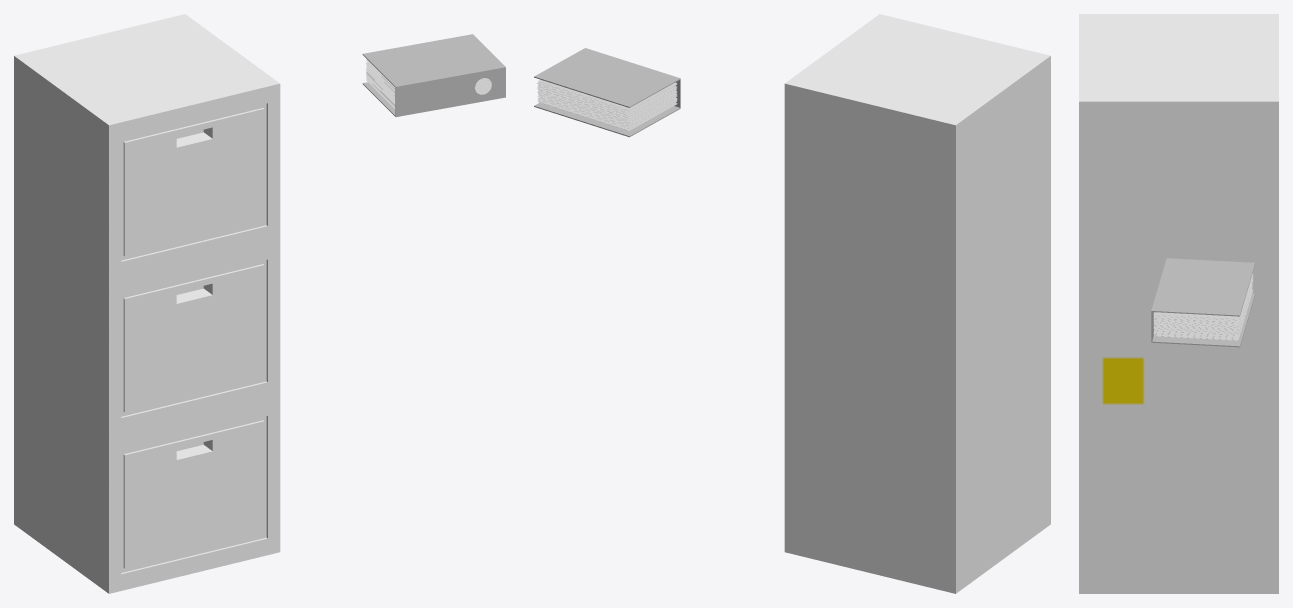
File: 3,7number.fbx
3 renders of one model, left to right at view 1: azimuth 30°, elevation 25°; view 2: azimuth 150°, elevation 25°; view 3: azimuth 270°, elevation 25°, orthographic. The views are drawn at different scales.
Parts seen in each view (by area): view 1: Drawer1.001, File1.001, Paper.001; view 2: Drawer1.001, File1.001, Paper.001; view 3: Drawer1.001, File1.001, Paper.001.
Part boxes in pixels (left/top/right/bottom): Drawer1.001: left=14, top=14, right=280, bottom=593; File1.001: left=362, top=34, right=505, bottom=116; Paper.001: left=366, top=59, right=491, bottom=108; Drawer1.001: left=784, top=14, right=1050, bottom=593; File1.001: left=534, top=48, right=680, bottom=137; Paper.001: left=536, top=79, right=677, bottom=130; Drawer1.001: left=1079, top=14, right=1278, bottom=593; File1.001: left=1151, top=258, right=1255, bottom=347; Paper.001: left=1153, top=273, right=1253, bottom=340.
Bounding box in the file's own units: 332 × 338 × 124.
